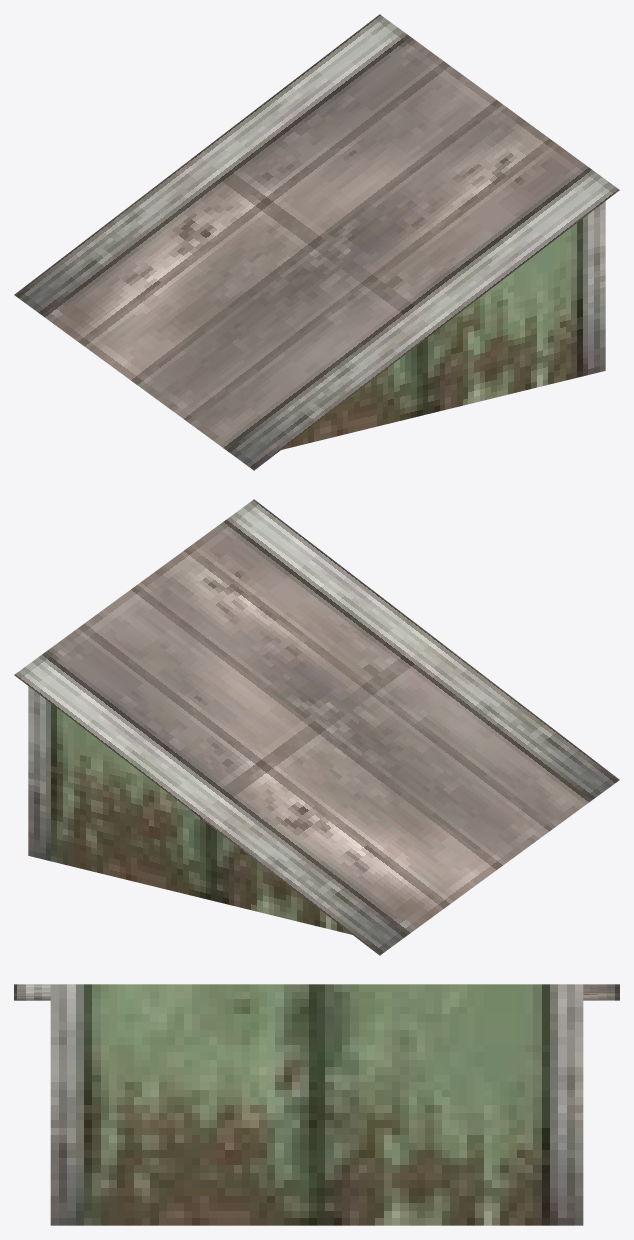
File: wall-b-roof-slant-detailed.glb
3 renders of one model, top to bottom at view 1: azimuth 30°, elevation 25°; view 2: azimuth 150°, elevation 25°; view 3: azimuth 270°, elevation 25°, orthographic. The views are drawn at different scales.
Visible parts, largest first — view 1: wall-b-roof-slant-detailed; view 2: wall-b-roof-slant-detailed; view 3: wall-b-roof-slant-detailed.
Boxes of the visible parts, box(x1,y1,x2,y2) form: wall-b-roof-slant-detailed: box(14, 14, 619, 470); wall-b-roof-slant-detailed: box(14, 499, 619, 955); wall-b-roof-slant-detailed: box(14, 984, 619, 1225).
Size of the model in its own units: 1 by 0.5001 by 1.14.
3 materials, 3 textured.
